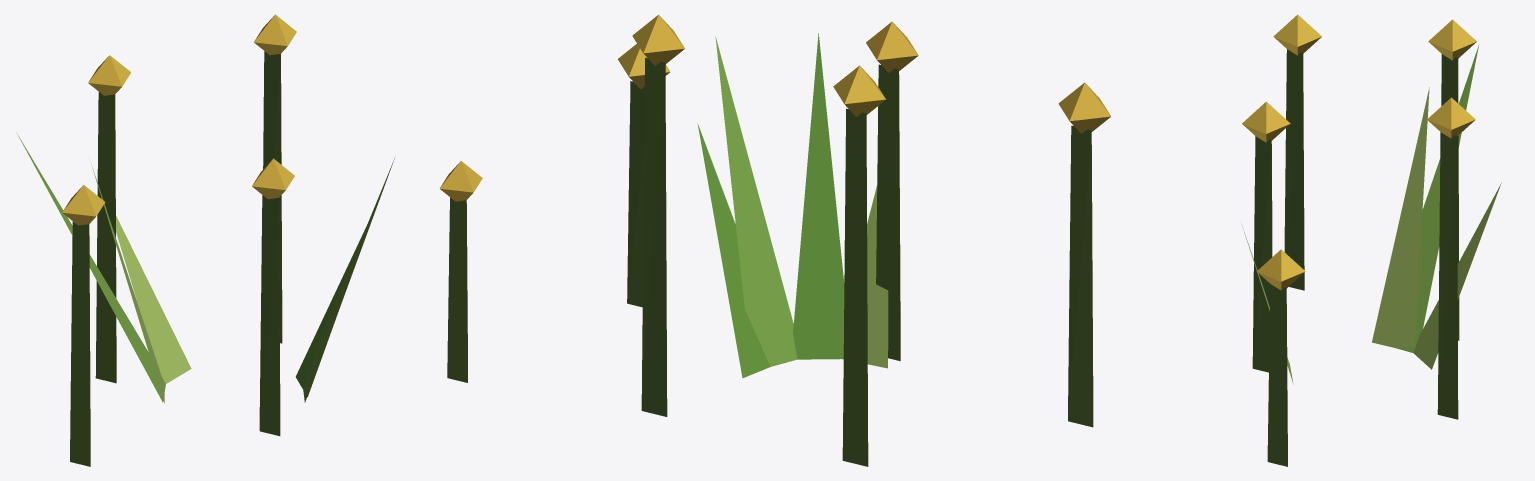
The model's file is cover-daisy.glb.
The picture shows the model from 3 angles, left to right: view 1: azimuth 30°, elevation 25°; view 2: azimuth 150°, elevation 25°; view 3: azimuth 270°, elevation 25°; orthographic projection. The views are drawn at different scales.
Parts seen in each view (by area): view 1: cover-daisy; view 2: cover-daisy; view 3: cover-daisy.
Part boxes in pixels (x1,y1,x2,y2): cover-daisy: [17, 14, 482, 466]; cover-daisy: [617, 14, 1110, 466]; cover-daisy: [1241, 14, 1501, 466].
Bounding box in the file's own units: 0.4061 × 0.2571 × 0.2368.
